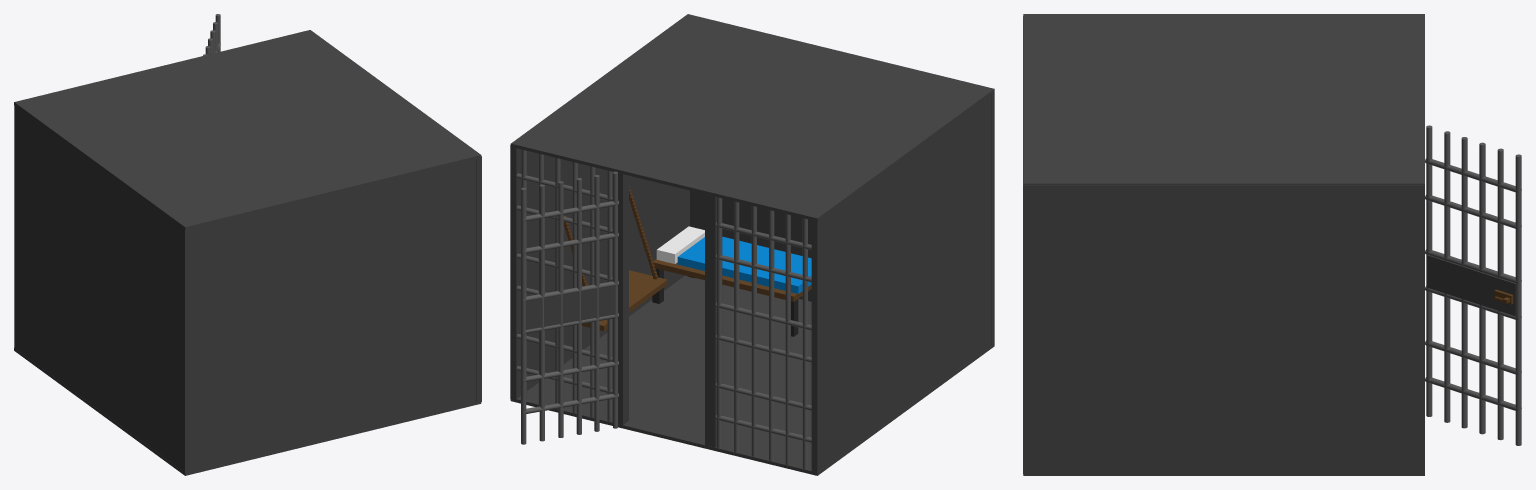
File: Jail-Acik.fbx
3 views of the same model, side by side, from view 1: azimuth 30°, elevation 25°; view 2: azimuth 150°, elevation 25°; view 3: azimuth 270°, elevation 25° (orthographic). The views are drawn at different scales.
Parts seen in each view (by area): view 1: Cube.006; view 2: Cube.006; view 3: Cube.006.
Part boxes in pixels (left/top/right/bottom): Cube.006: left=14, top=14, right=481, bottom=475; Cube.006: left=510, top=14, right=994, bottom=475; Cube.006: left=1023, top=14, right=1521, bottom=475.
Bounding box in the file's own units: 2003 × 1604 × 2482.
